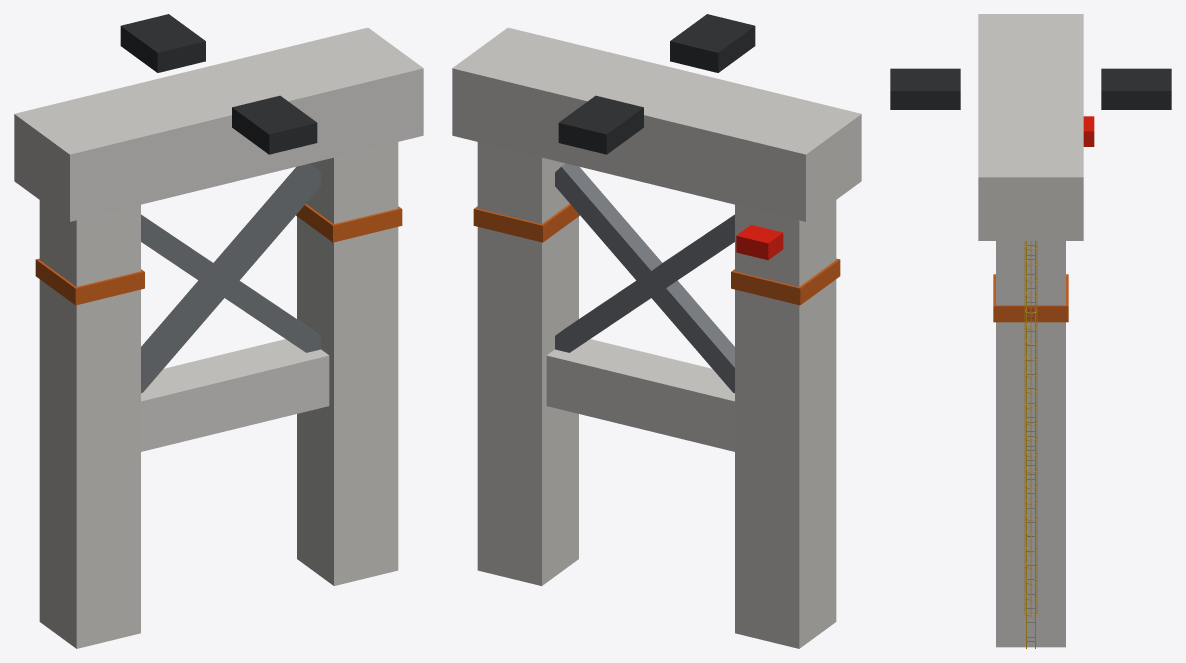
The model's file is driver-pylon.glb.
The picture shows the model from 3 angles, left to right: view 1: azimuth 30°, elevation 25°; view 2: azimuth 150°, elevation 25°; view 3: azimuth 270°, elevation 25°; orthographic projection. The views are drawn at different scales.
Parts seen in each view (by area): view 1: Piece_lod0; view 2: Piece_lod0; view 3: Piece_lod0.
Boxes of the visible parts, x1=… form: Piece_lod0: x1=14, y1=14, x2=423, y2=648; Piece_lod0: x1=452, y1=14, x2=861, y2=648; Piece_lod0: x1=890, y1=14, x2=1171, y2=648.
Size of what is drawn, in the model's own units: 22 by 31 by 16.
